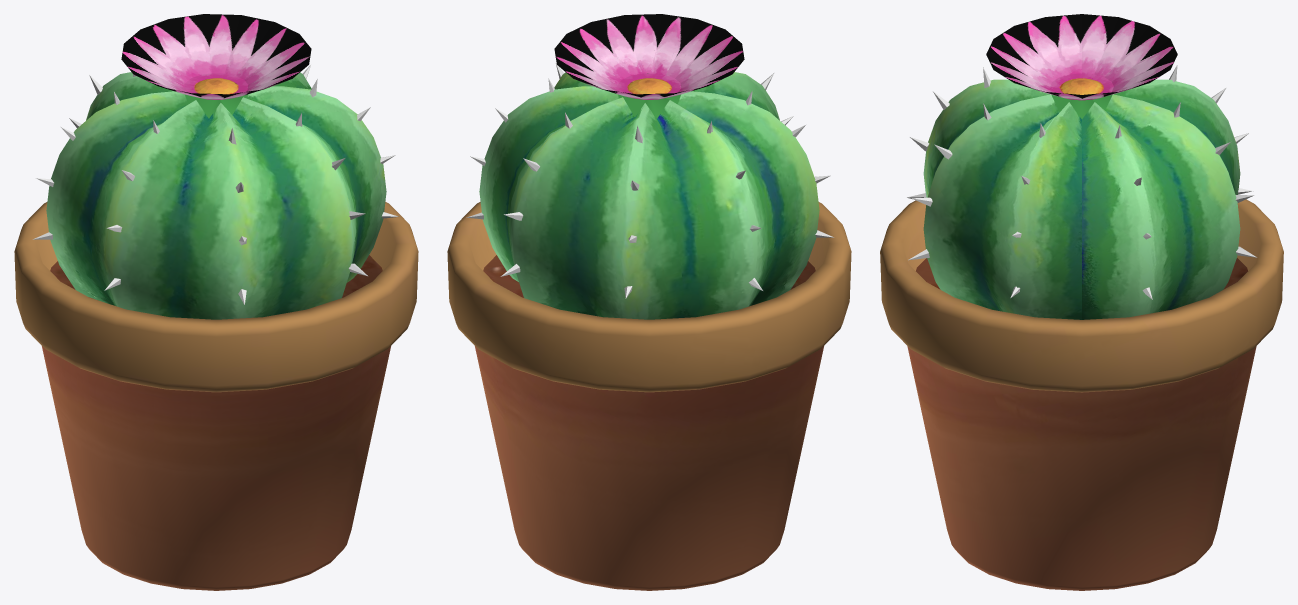
Rendered from cactus_pot.glb.
3 views of the same model, side by side, from view 1: azimuth 30°, elevation 25°; view 2: azimuth 150°, elevation 25°; view 3: azimuth 270°, elevation 25° (orthographic).
Parts seen in each view (by area): view 1: pot_ceramic_0, cactus_cactus_0, Sphere_flower_0, spikes_cactus spike_0; view 2: pot_ceramic_0, cactus_cactus_0, Sphere_flower_0, spikes_cactus spike_0; view 3: pot_ceramic_0, cactus_cactus_0, Sphere_flower_0, spikes_cactus spike_0.
Boxes of the visible parts, x1=… form: pot_ceramic_0: x1=14, y1=201, x2=418, y2=590; cactus_cactus_0: x1=46, y1=72, x2=386, y2=319; Sphere_flower_0: x1=121, y1=14, x2=311, y2=99; spikes_cactus spike_0: x1=33, y1=64, x2=398, y2=304; pot_ceramic_0: x1=447, y1=201, x2=851, y2=590; cactus_cactus_0: x1=479, y1=72, x2=819, y2=319; Sphere_flower_0: x1=554, y1=14, x2=744, y2=99; spikes_cactus spike_0: x1=466, y1=63, x2=833, y2=298; pot_ceramic_0: x1=880, y1=199, x2=1283, y2=590; cactus_cactus_0: x1=923, y1=79, x2=1240, y2=319; Sphere_flower_0: x1=986, y1=14, x2=1177, y2=100; spikes_cactus spike_0: x1=907, y1=65, x2=1256, y2=299.
Size of the model in its own units: 223 by 294 by 223.
Materials: 4 (3 with a texture image).
